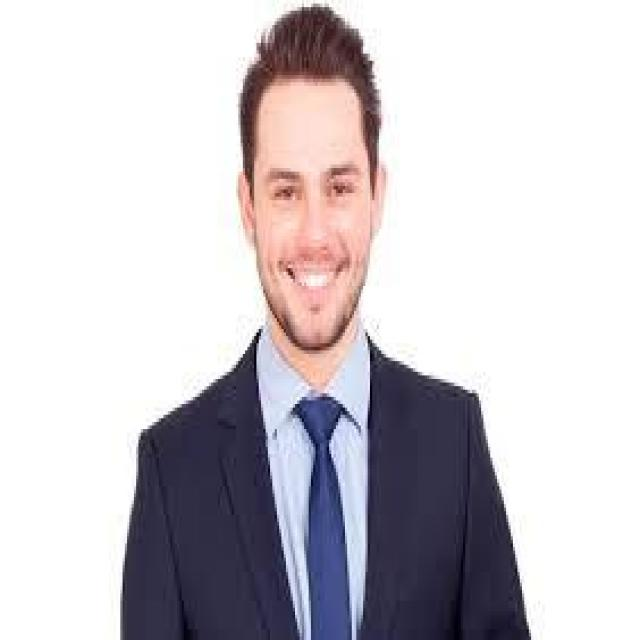person: (129, 7, 513, 633)
